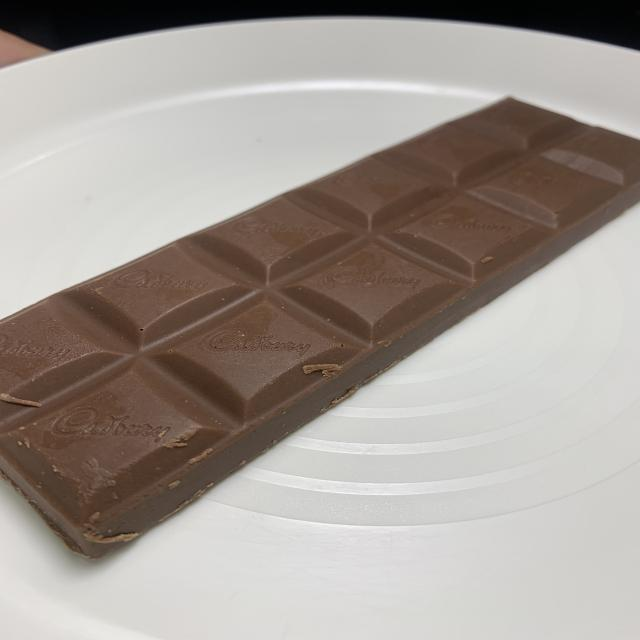Chocolate: (0, 95, 640, 560)
